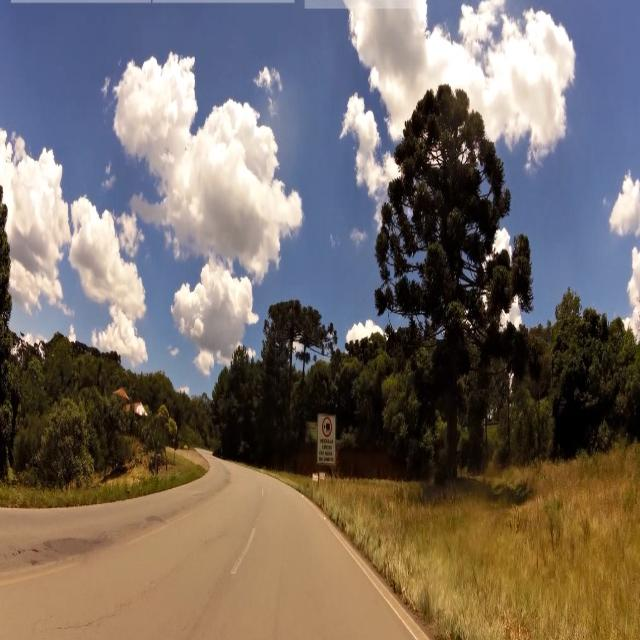R-27: (319, 415, 334, 442)
